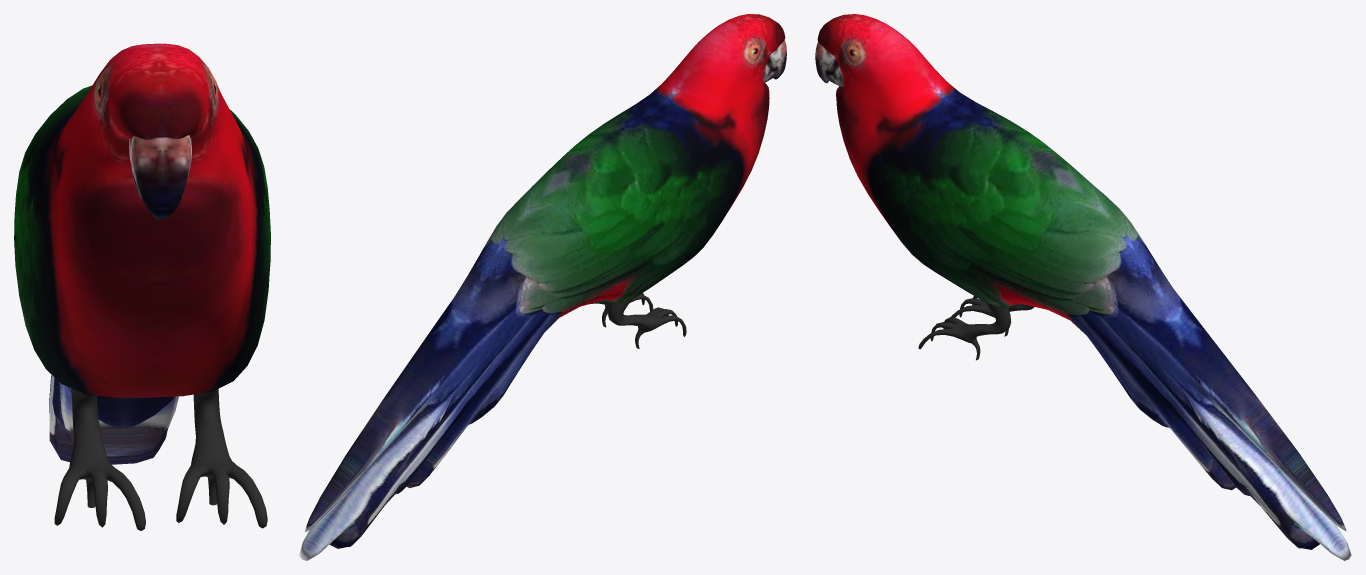
The model's file is nuri.fbx.
3 renders of one model, left to right at view 1: azimuth 30°, elevation 25°; view 2: azimuth 150°, elevation 25°; view 3: azimuth 270°, elevation 25°, orthographic. The views are drawn at different scales.
Visible parts, largest first — view 1: badan, kaki kanan, kaki kiri, paruh; view 2: badan, kaki kanan, paruh; view 3: badan, kaki kiri, paruh.
Part boxes in pixels (x1,y1,x2,y2): badan: (14,43,270,464); kaki kanan: (54,388,145,530); kaki kiri: (176,389,267,528); paruh: (129,135,191,219); badan: (299,14,785,560); kaki kanan: (608,298,686,348); paruh: (762,40,786,82); badan: (817,14,1351,560); kaki kiri: (918,302,1011,360); paruh: (815,42,843,86).
Size of the model in its own units: 336 by 552 by 617.
3 materials, 2 textured.
